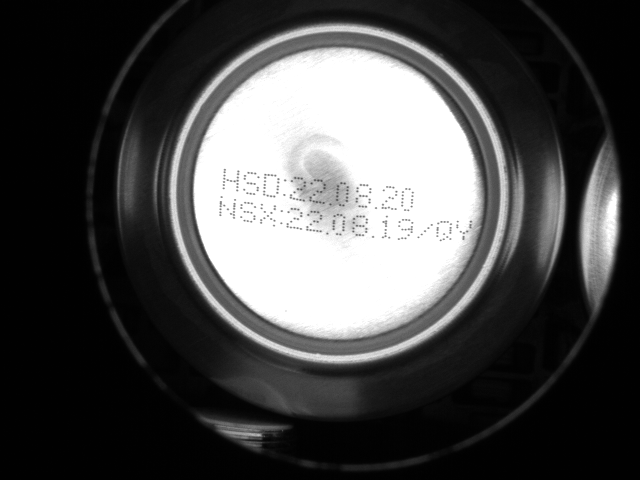/: (418, 219, 434, 239)
0: (334, 180, 352, 207), (329, 213, 347, 237), (402, 185, 417, 212)
1: (379, 215, 394, 240)
2: (286, 207, 307, 233), (289, 176, 307, 205), (380, 186, 400, 212), (306, 210, 326, 234), (311, 179, 327, 207)
8: (352, 213, 371, 240), (356, 180, 373, 209)
9: (399, 218, 417, 243)
D: (263, 172, 282, 199)
H: (221, 165, 240, 193)
N: (219, 196, 238, 221)
Q: (435, 217, 454, 243)
S: (238, 199, 256, 225), (244, 171, 261, 196)
X: (260, 203, 278, 227)
Y: (457, 217, 475, 242)
